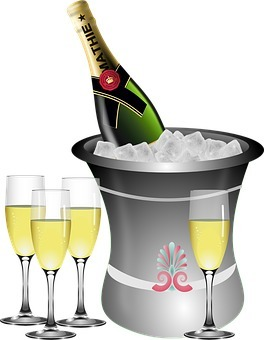bottle: (62, 1, 167, 148)
